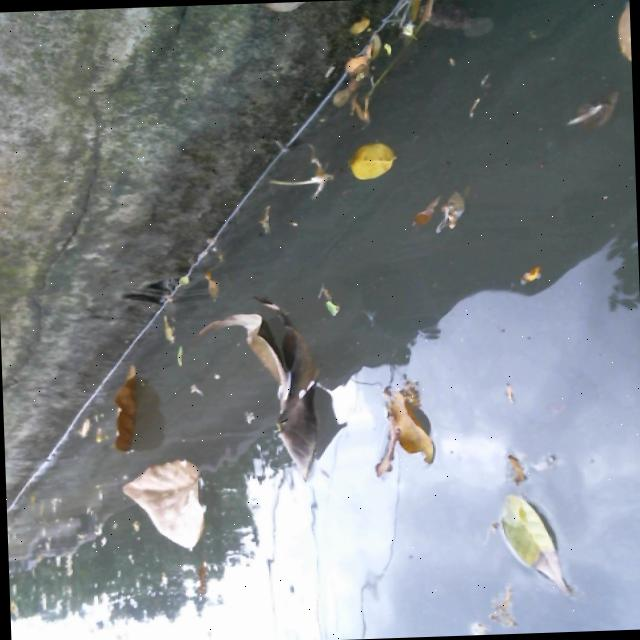Big-leaf: (198, 299, 337, 484), (351, 371, 449, 488), (119, 456, 216, 551), (106, 358, 154, 449)
Small-leaf: (488, 484, 578, 599), (346, 134, 412, 185), (558, 90, 617, 134), (434, 177, 481, 232), (390, 0, 454, 37), (606, 0, 631, 71), (406, 189, 447, 224), (202, 259, 231, 308), (340, 18, 380, 48), (187, 559, 212, 602), (70, 405, 103, 437), (334, 41, 367, 73), (154, 313, 179, 342)
